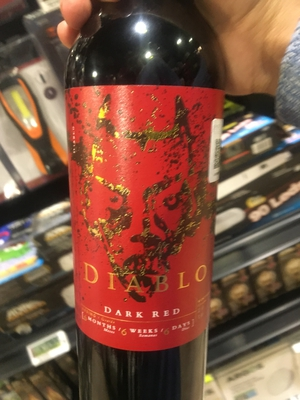diablo dark red: (71, 23, 228, 394)
